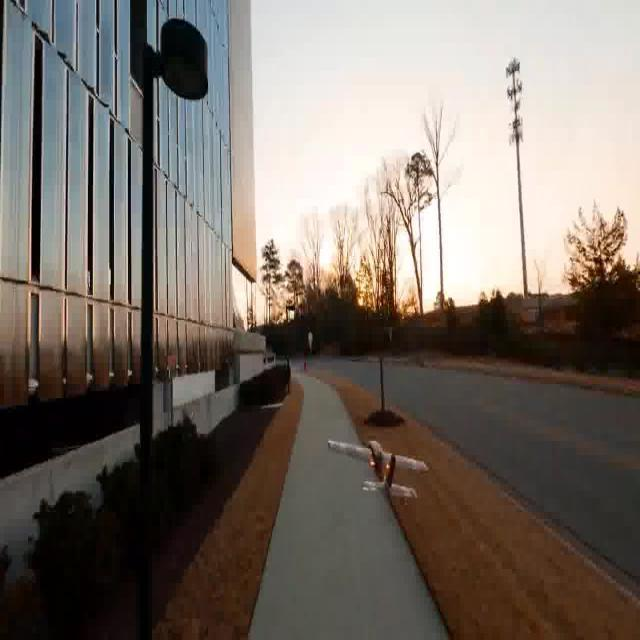iha: (357, 455, 399, 485)
